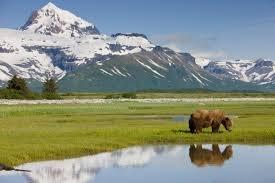bear: (188, 109, 233, 134)
